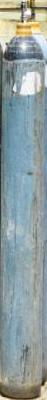cylinder: (1, 1, 47, 400)
